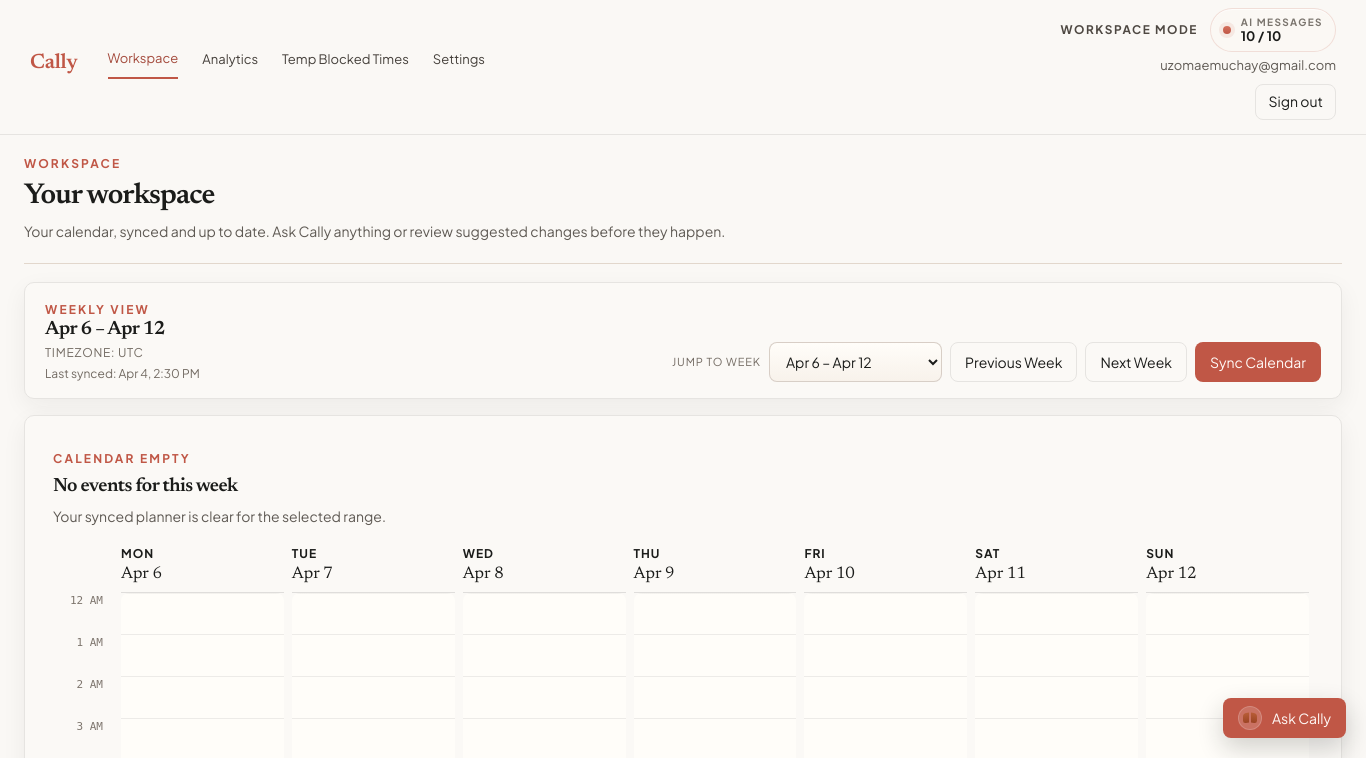
Test: Calendar workspace › submits a chat message when pressing enter in the composer
Click the button with aria-label "open ask cally". click: x=1284, y=718
box: [1223,698,1346,738]
(page scrolled)
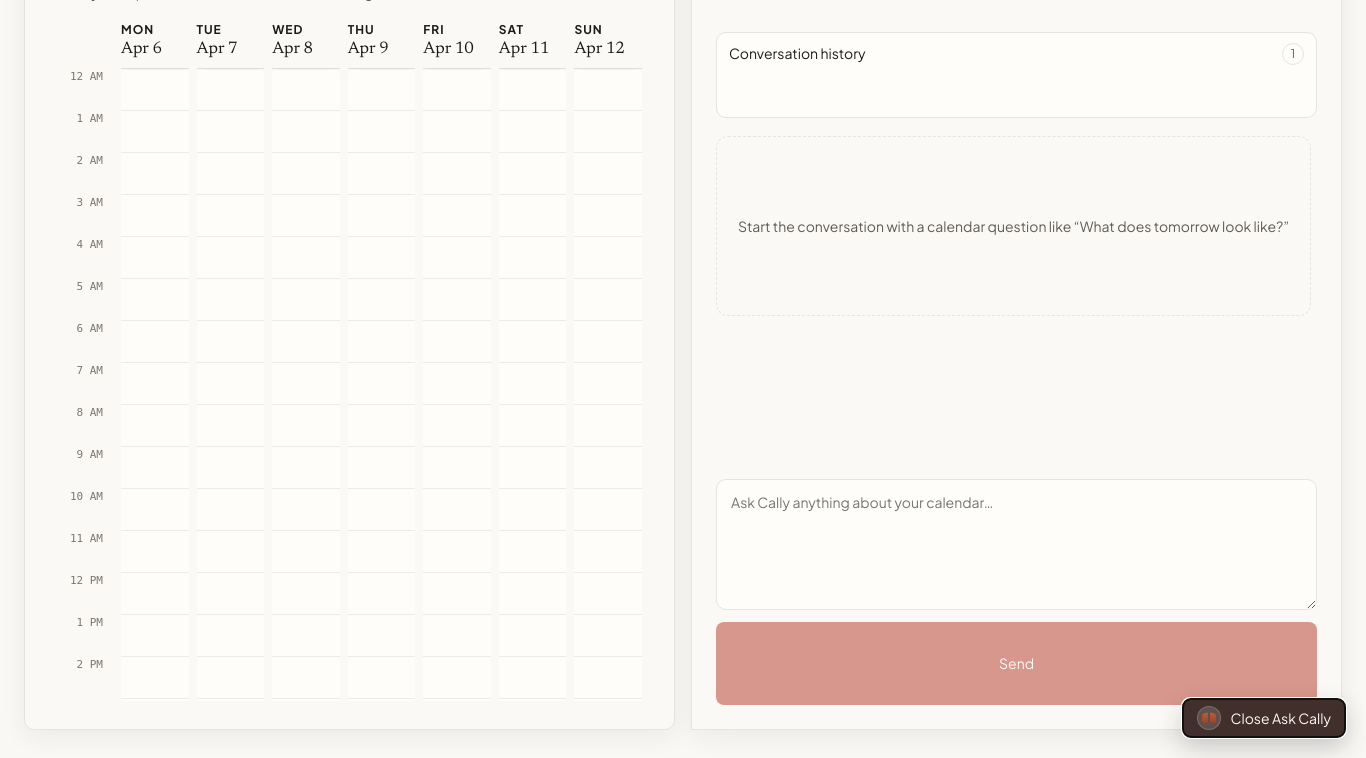
Type "What does tomorrow look like?" into the text box named "chat message". click: x=1016, y=545
box: [716,479,1317,610]
Then press Enter
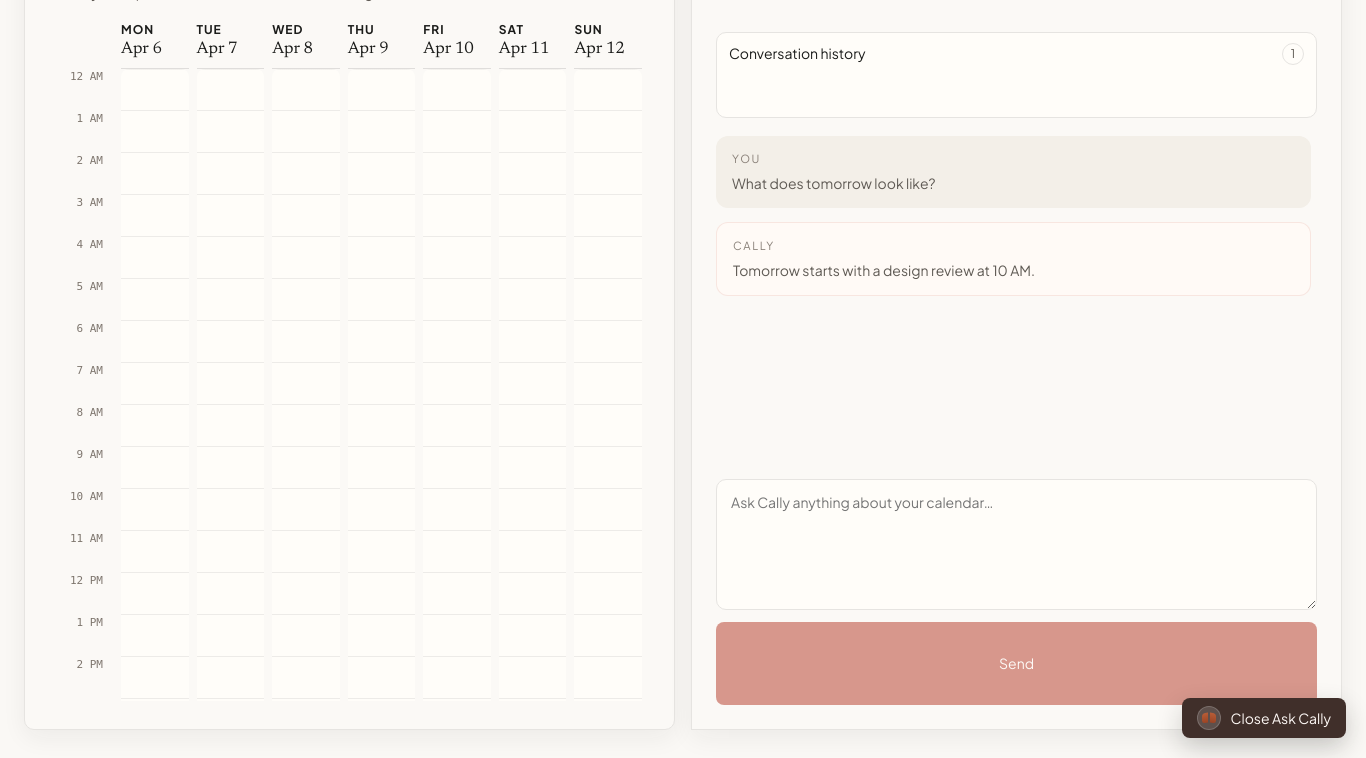
Result: the text "What does tomorrow look like?" is shown at [732,174,936,192]
Result: the text "Tomorrow starts with a design review at 10 AM." is shown at [733,261,1035,279]
